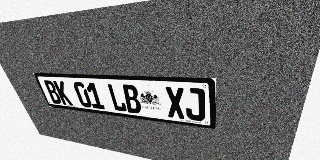0: (72, 82, 93, 108)
1: (84, 82, 105, 109)
B: (121, 84, 142, 114), (43, 80, 63, 104)
J: (184, 87, 205, 122)
K: (53, 81, 73, 106)
L: (106, 83, 128, 112)
X: (164, 86, 186, 119)
